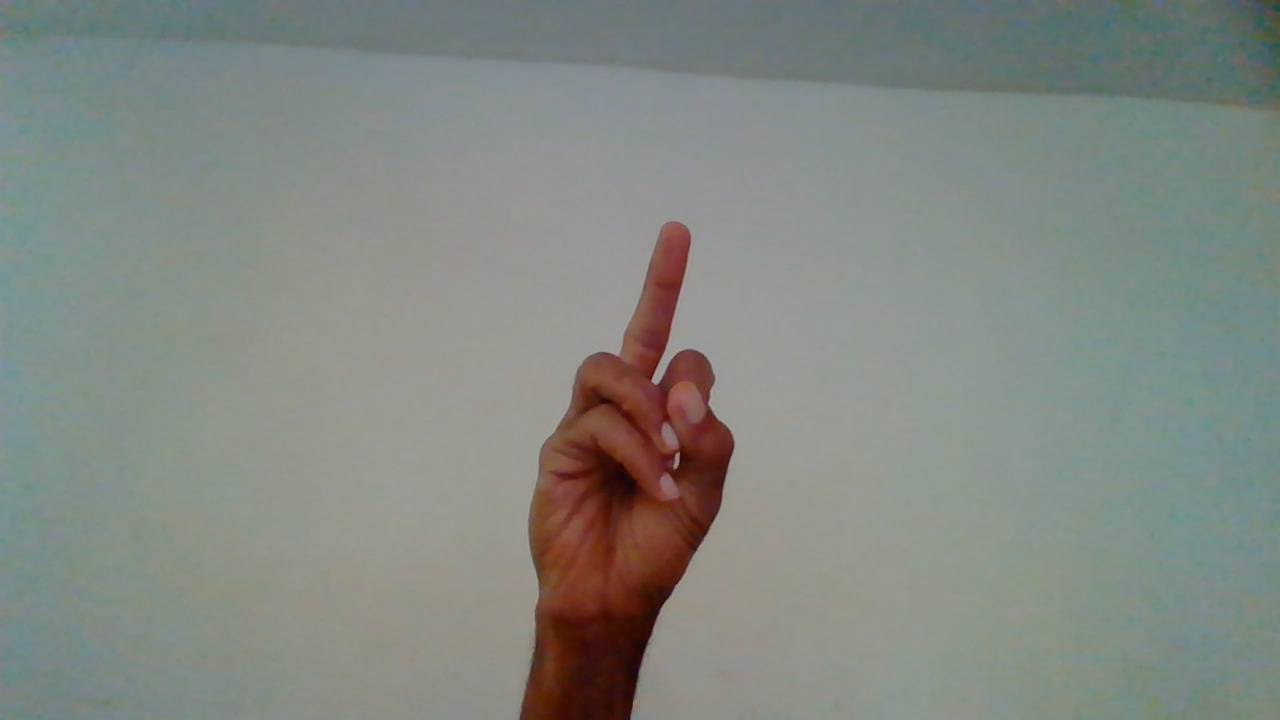he: (504, 218, 740, 711)
